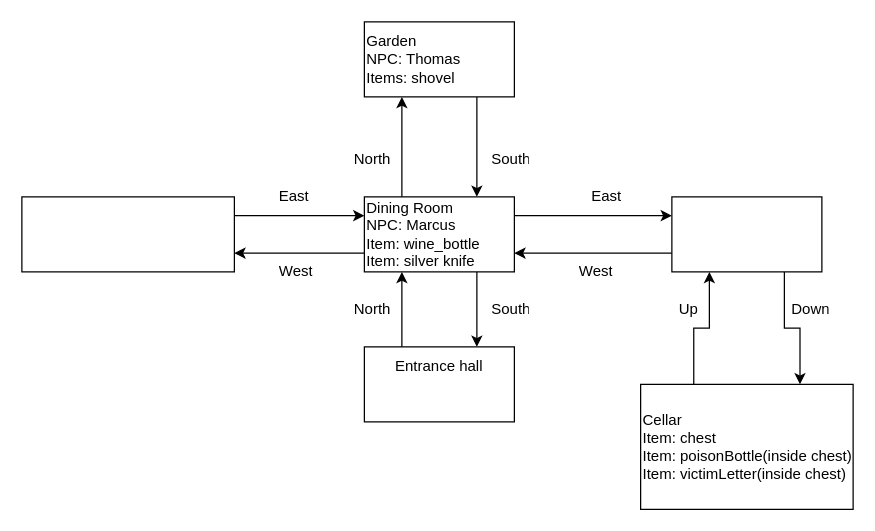
Image size: 875x531. Some labels were removed from this diagram. The centre of each missing label's shape, as x and y in pixels:
Kitchen NPC: Henri: point 746,234
Library NPC: Elisa Item: bloody_key(Elisa has it) Item: diary_page: point 127,234
